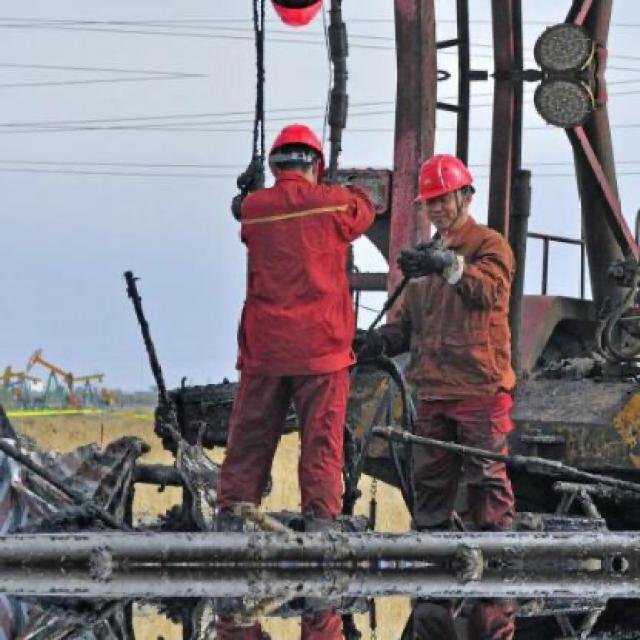helmet: (412, 148, 480, 231), (263, 117, 331, 193), (263, 0, 332, 35)
